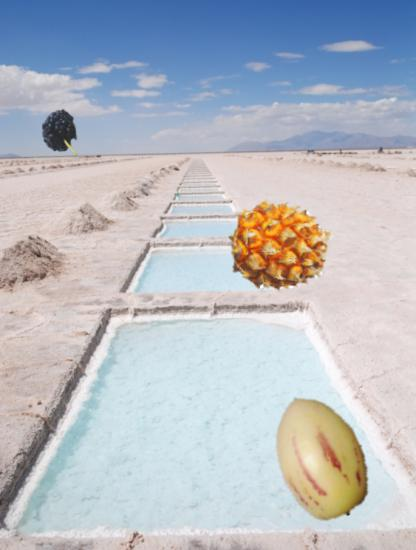Mulberry: (26, 106, 81, 161)
Pepino: (255, 392, 386, 523)
Pineapple: (228, 195, 332, 299)
